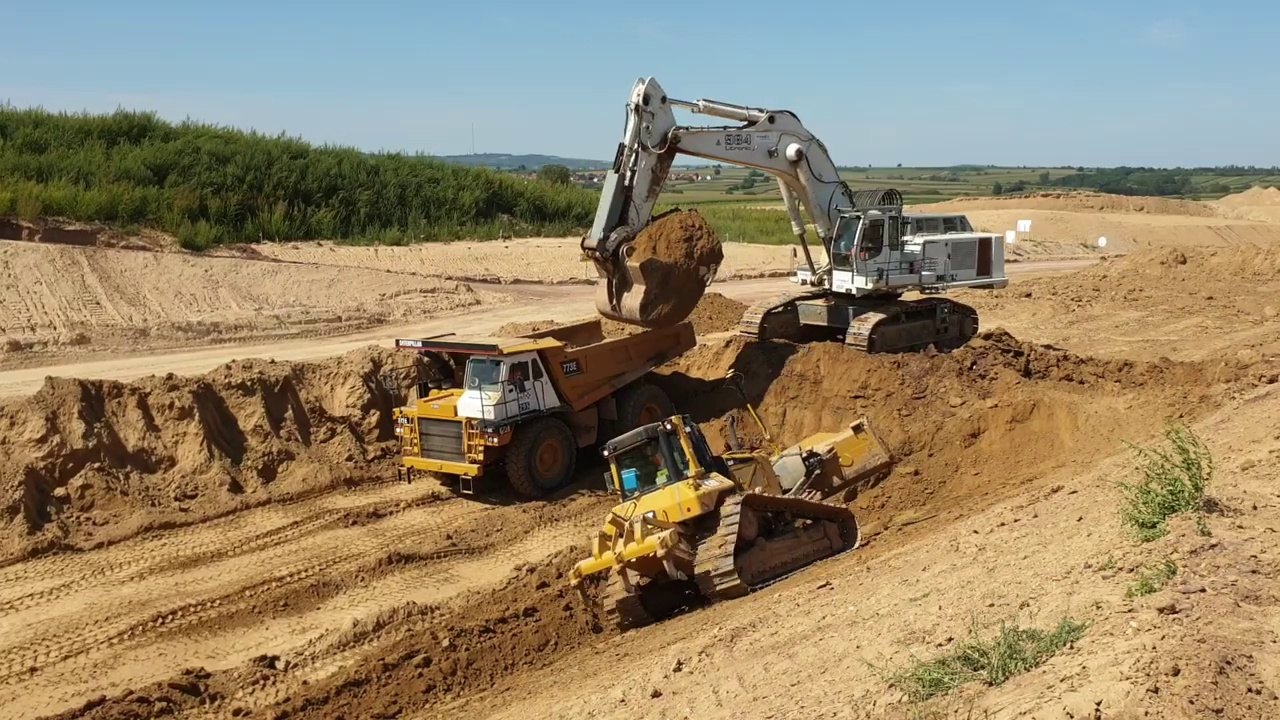bulldozer: (567, 379, 898, 637)
excavator: (576, 72, 1015, 358)
truck: (390, 321, 702, 505)
